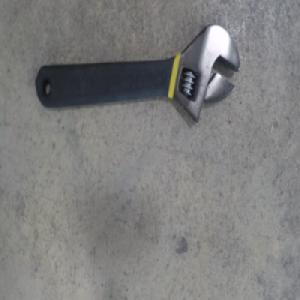AdjustableWrench: (33, 22, 237, 126)
